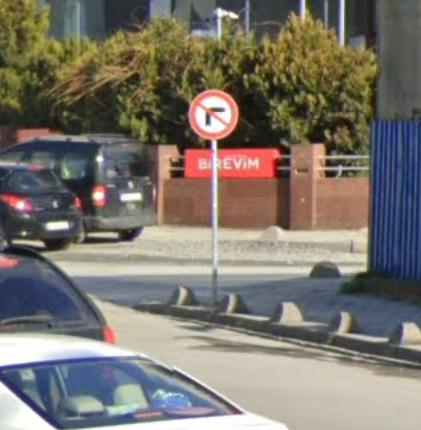rightturnsareforbidden: (187, 88, 241, 140)
